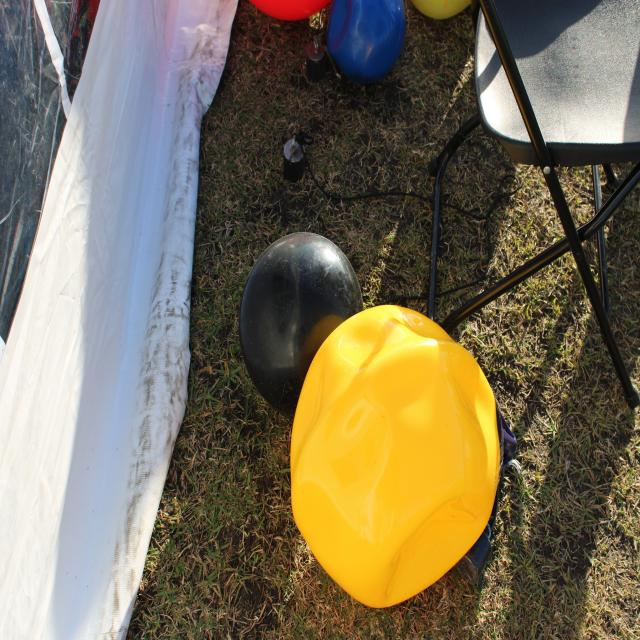black-buoy: (238, 232, 359, 408)
blue-buoy: (328, 0, 410, 79)
yellow-buoy: (283, 298, 506, 614)
